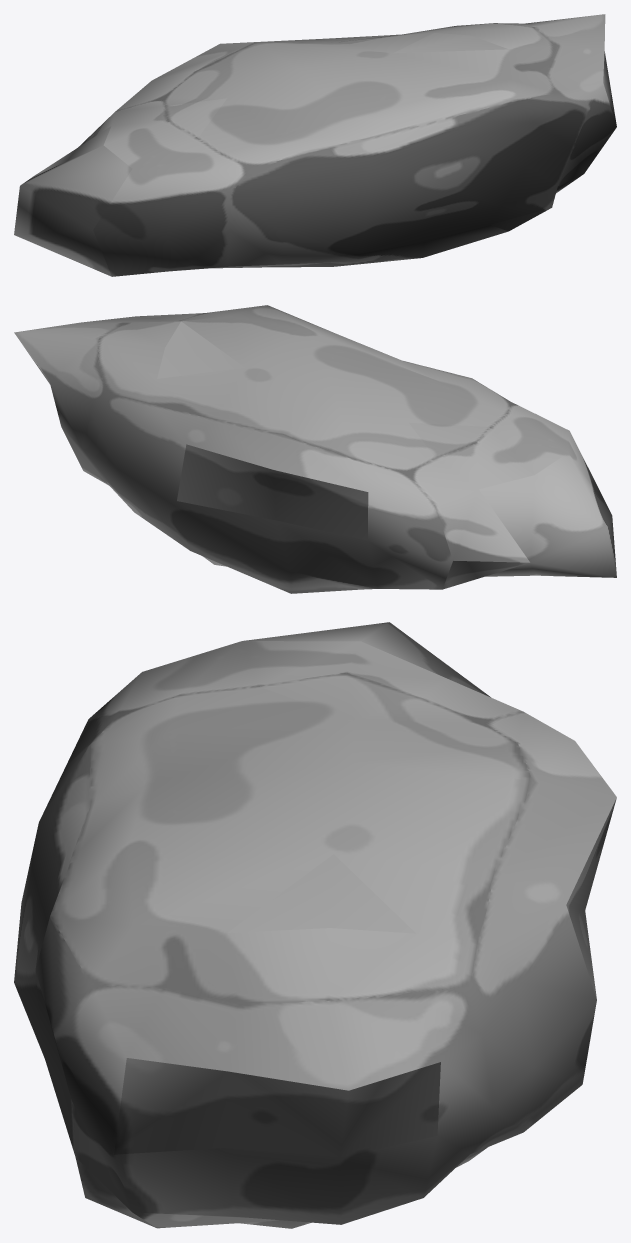
File: rock_01.FBX
3 renders of one model, top to bottom at view 1: azimuth 30°, elevation 25°; view 2: azimuth 150°, elevation 25°; view 3: azimuth 270°, elevation 25°, orthographic. The views are drawn at different scales.
Visible parts, largest first — view 1: rock_01; view 2: rock_01; view 3: rock_01.
Part boxes in pixels (left/top/right/bottom): rock_01: left=14, top=14, right=616, bottom=276; rock_01: left=14, top=305, right=616, bottom=593; rock_01: left=14, top=622, right=616, bottom=1228.
Size of the model in its own units: 89.86 by 24.25 by 41.49.
